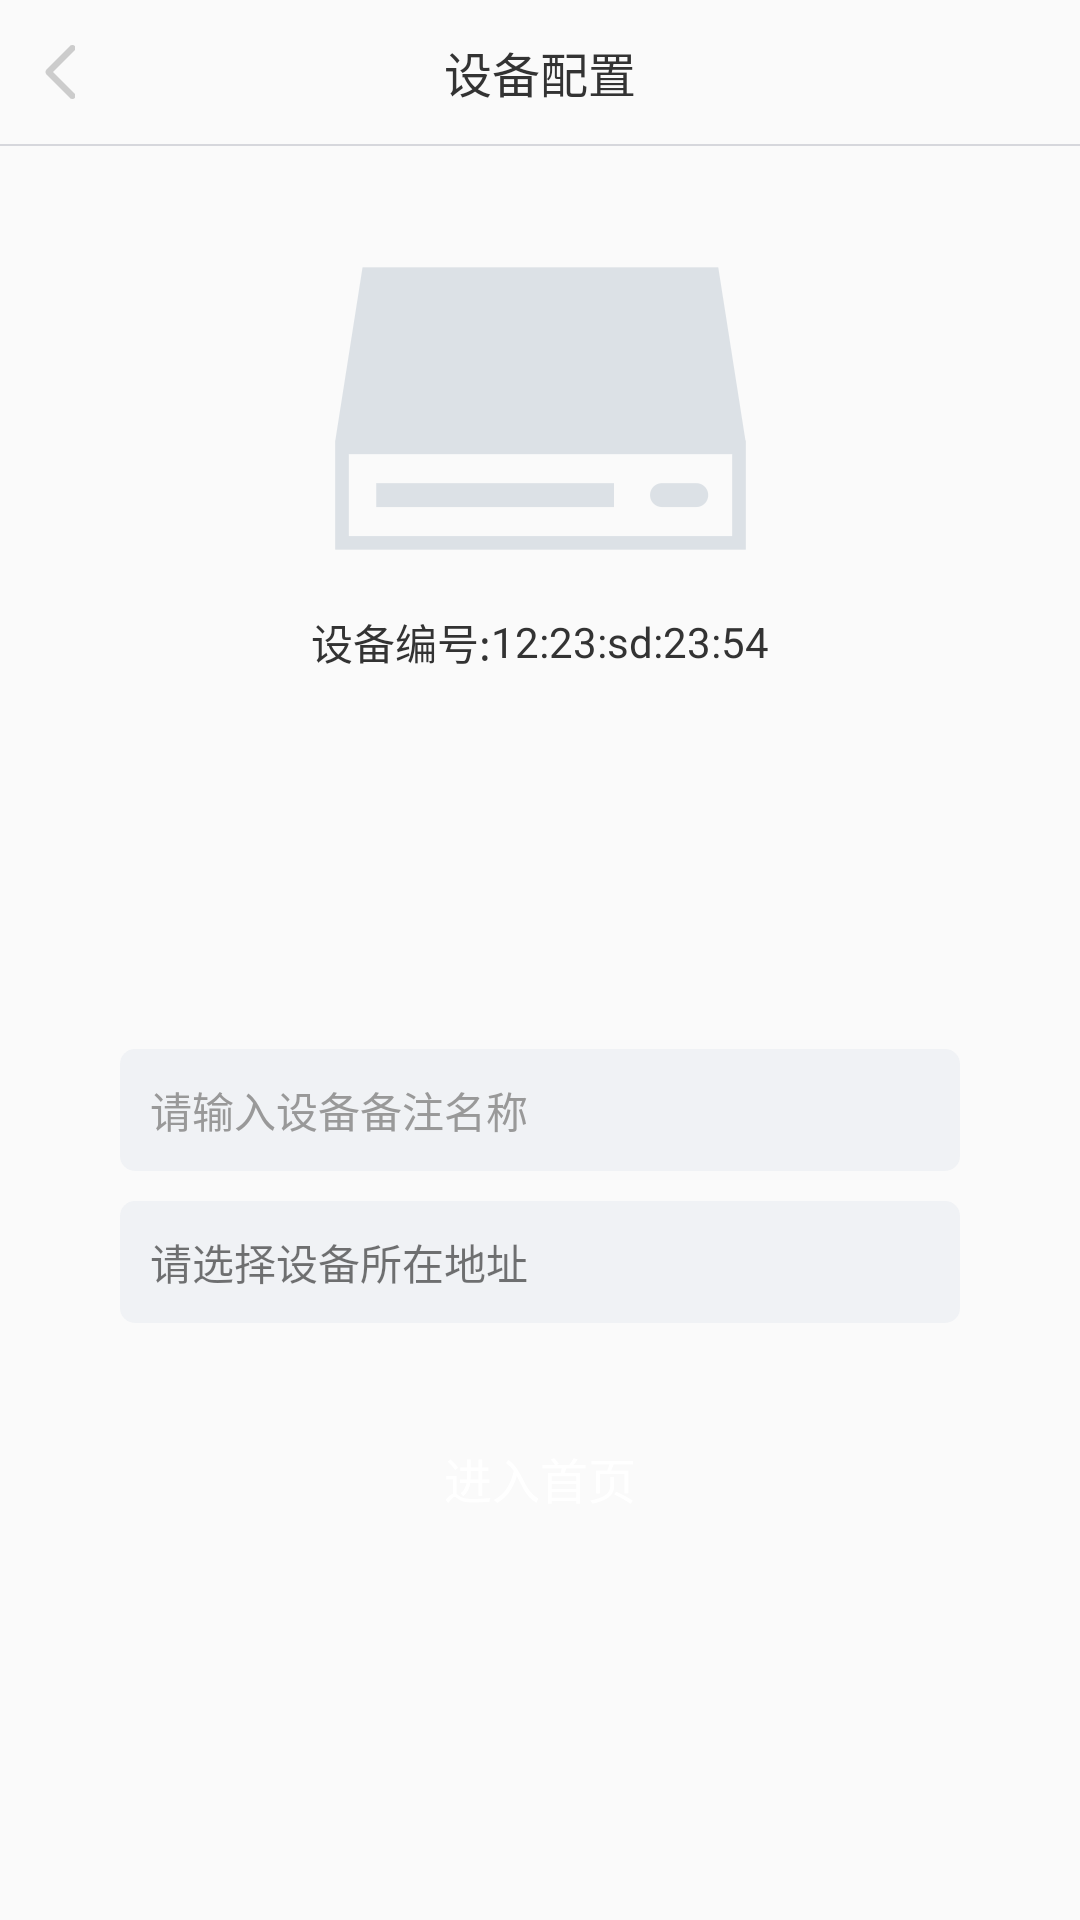

Named icons in this screenshot (1080×1920) and their centers, [x,y]:
back: [60,72]
